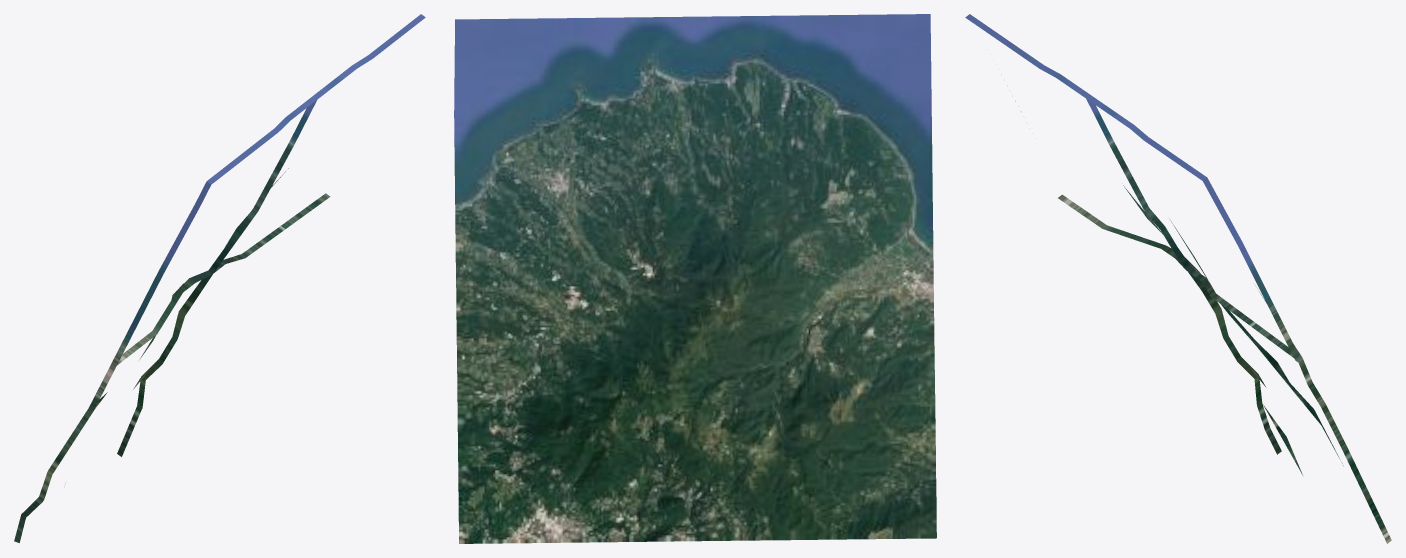
The picture shows the model from 3 angles, left to right: view 1: azimuth 30°, elevation 25°; view 2: azimuth 150°, elevation 25°; view 3: azimuth 270°, elevation 25°; orthographic projection. The views are drawn at different scales.
Bounding box in the file's own units: 19781 × 17837 × 16707.
1 material, 1 textured.
